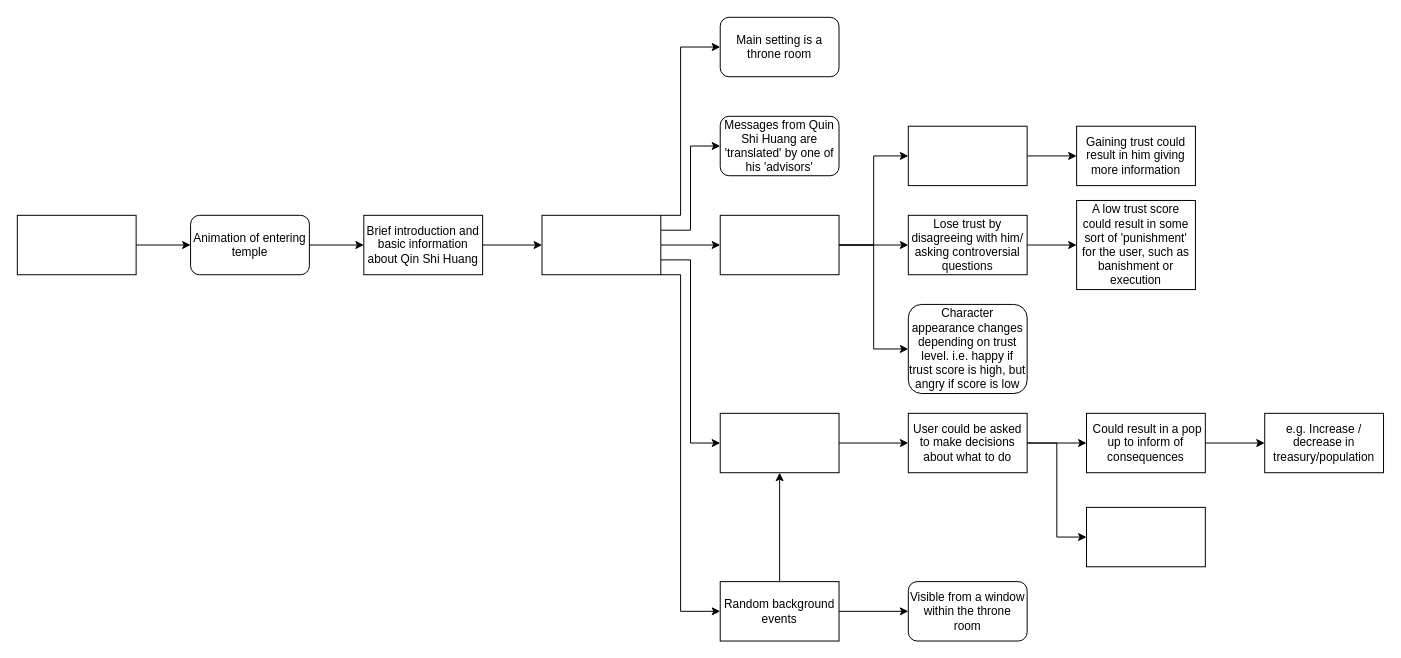
This 1401x658 diagram has some shape labels left out. Here are the shapes that lost their labels. From the top down, the box of each, then its label:
(907, 125, 1027, 186): Gain trust by appeasing to Qin Shi Huang. i.e. praise
(16, 214, 136, 275): New user
(541, 214, 661, 275): Main chat experience
(719, 214, 839, 275): Trust system
(719, 412, 839, 473): Decisions
(1086, 506, 1205, 567): Influences trust score
